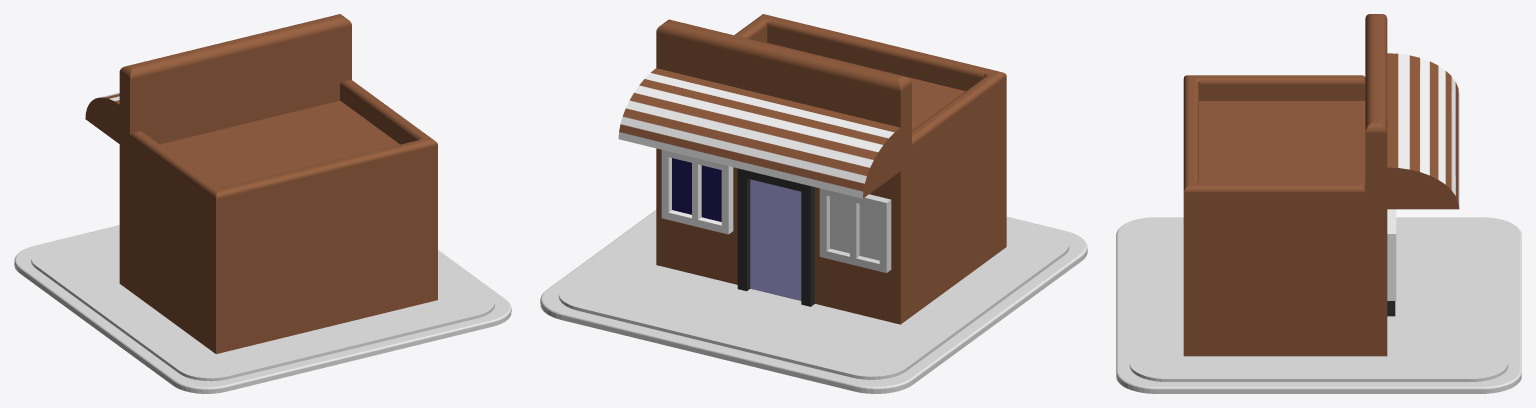
The model's file is Cafe.fbx.
The picture shows the model from 3 angles, left to right: view 1: azimuth 30°, elevation 25°; view 2: azimuth 150°, elevation 25°; view 3: azimuth 270°, elevation 25°; orthographic projection. The views are drawn at different scales.
Visible parts, largest first — view 1: Main, Grass, Ground; view 2: Main, Grass, Ground, Door, Plane, Plane.001; view 3: Main, Grass, Ground, Plane.001.
Part boxes in pixels (bbox=[...]): Main: bbox=[85, 14, 437, 353]; Grass: bbox=[31, 227, 494, 381]; Ground: bbox=[14, 225, 511, 393]; Main: bbox=[618, 14, 1006, 324]; Grass: bbox=[558, 217, 1069, 379]; Ground: bbox=[540, 210, 1087, 393]; Door: bbox=[737, 168, 814, 306]; Plane: bbox=[819, 188, 891, 272]; Plane.001: bbox=[661, 150, 733, 234]; Main: bbox=[1183, 14, 1459, 356]; Grass: bbox=[1129, 219, 1508, 381]; Ground: bbox=[1116, 217, 1521, 393]; Plane.001: bbox=[1387, 209, 1396, 300].
Size of the model in its own units: 3000 by 1959 by 3000.
Materials: 3 (3 with a texture image).
